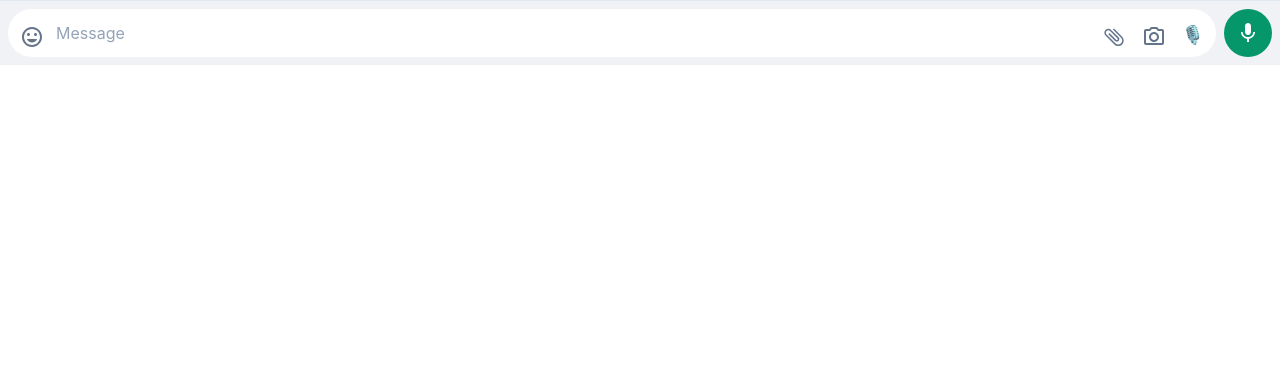
Scenario: Chat bar — WhatsApp layout › tapping the keyboard button closes the panel
Click the button named "Emojis" at (32,37), box x1=12 y1=17 x2=52 y2=57
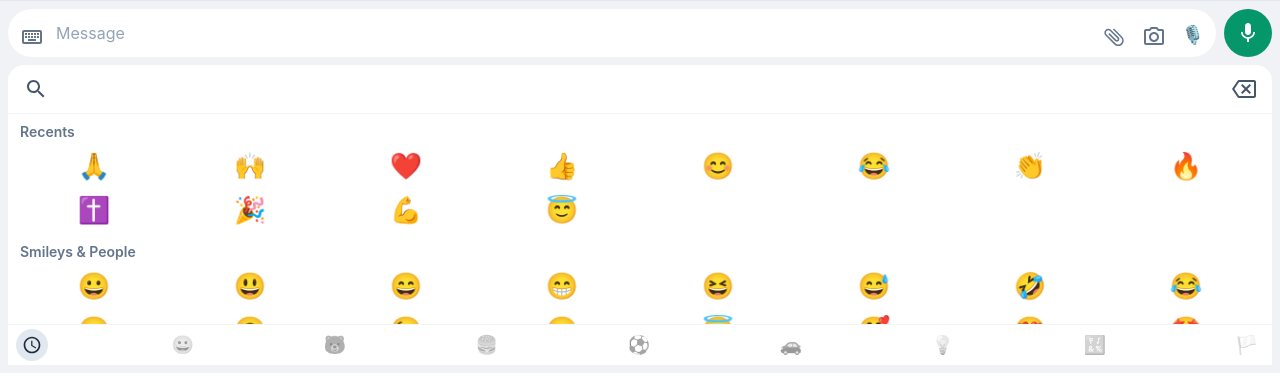
Expected: the element with test id "emoji-panel" is shown
Click the button named "Show keyboard" at (32,37), box x1=12 y1=17 x2=52 y2=57
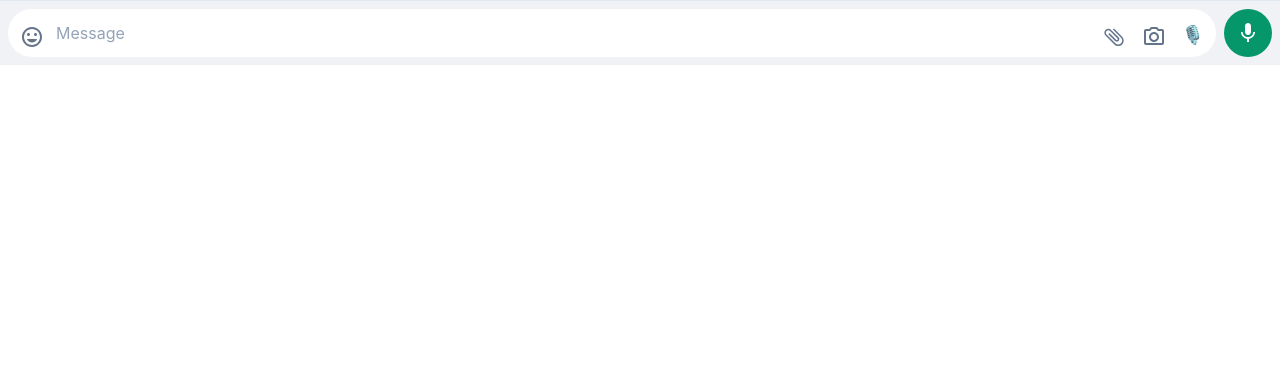
Expected: the element with test id "emoji-panel" is gone
